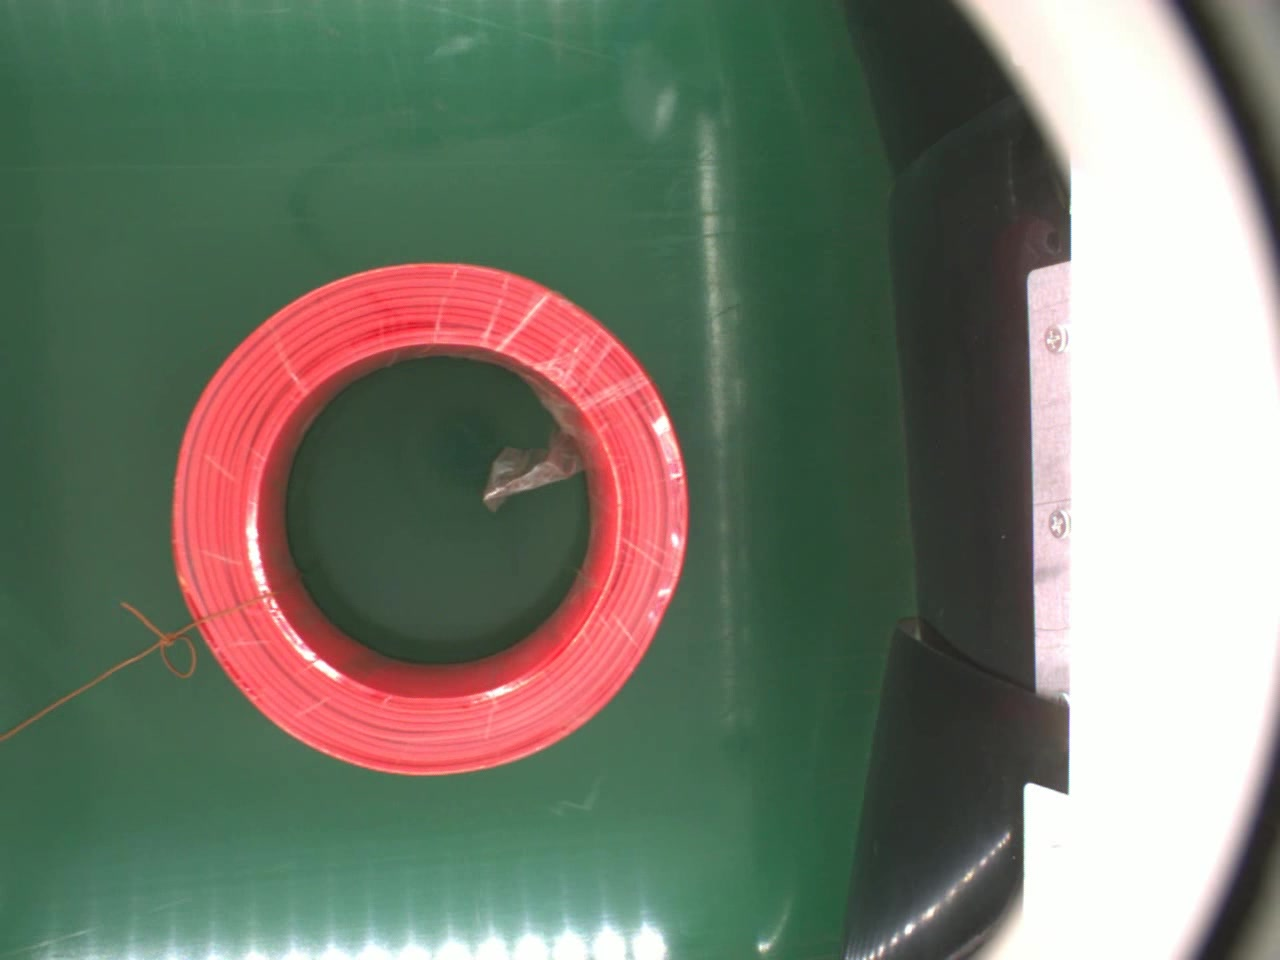red: (163, 252, 687, 781)
